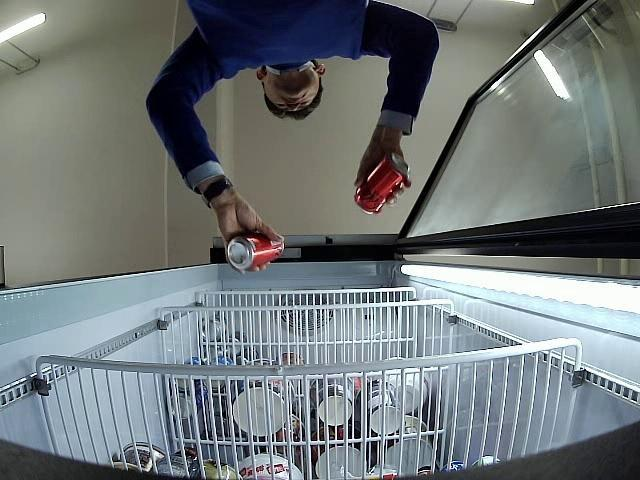11_cocaColaZero: (354, 154, 410, 214), (227, 230, 284, 270)
